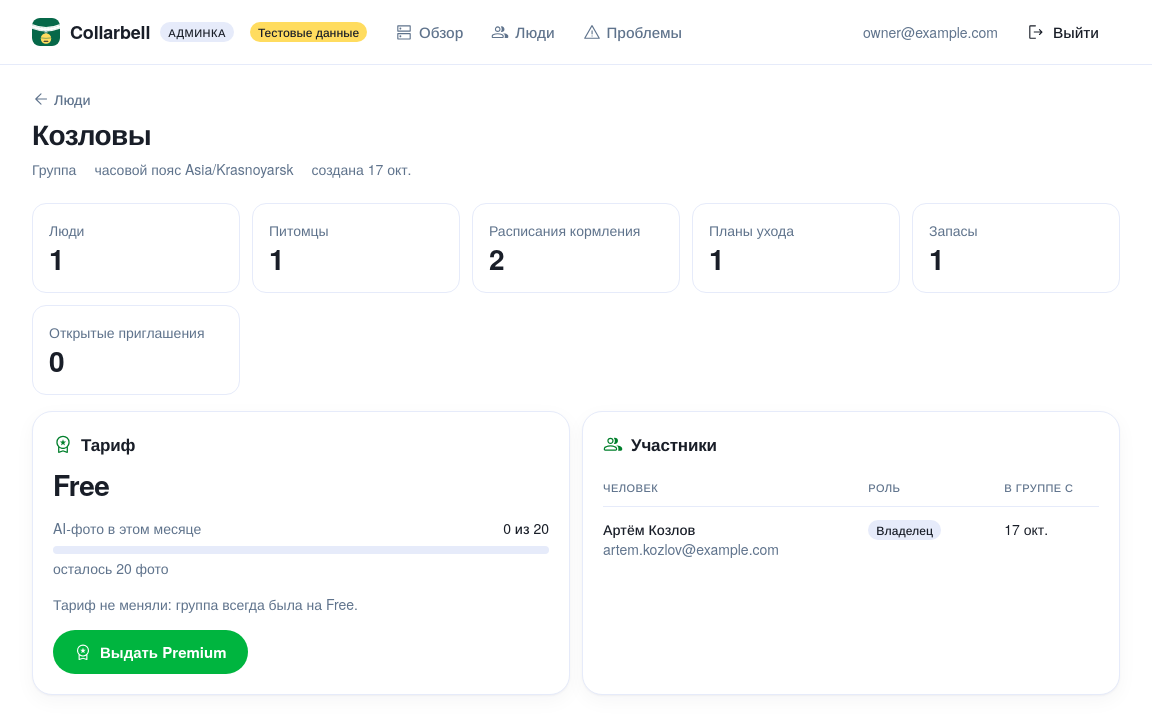
Test: Тариф › asks for the day when "До даты" has none, without asking the server
Click the button "Выдать Premium".
click(150, 652)  # box top-left (53, 630), bottom-right (248, 674)
(page scrolled)
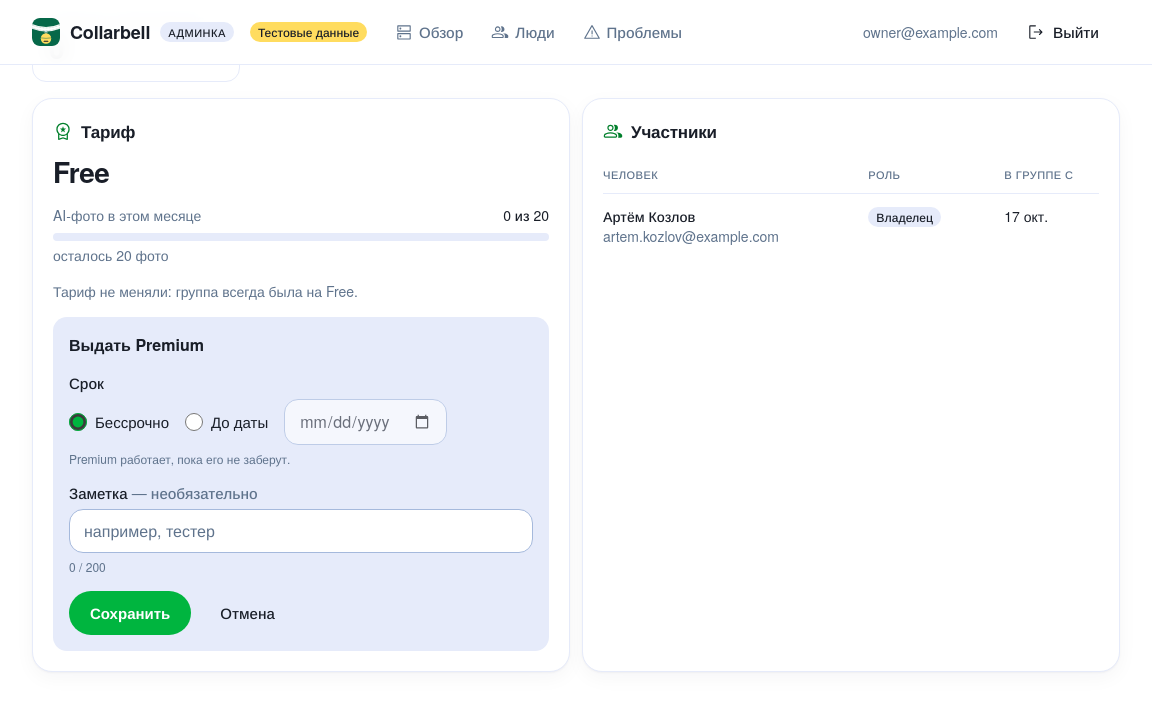
Click the radio button named "До даты".
click(194, 422)  # box top-left (185, 413), bottom-right (203, 431)
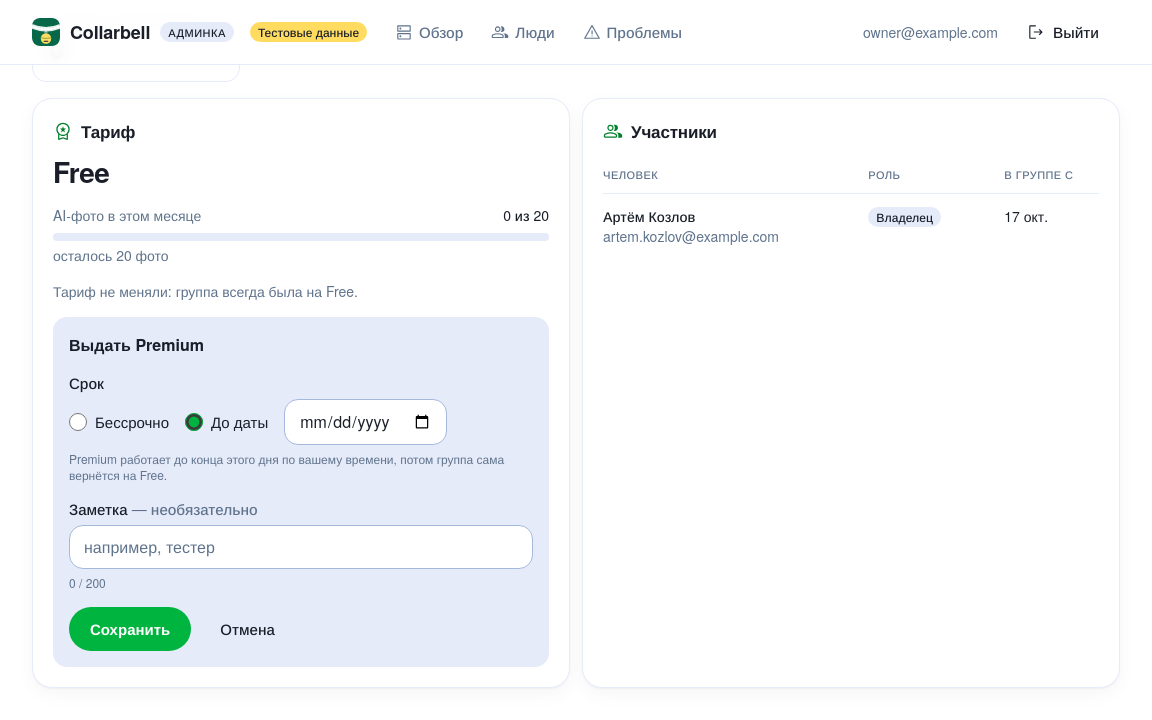
Click the button "Сохранить".
click(130, 629)  # box top-left (69, 607), bottom-right (191, 651)
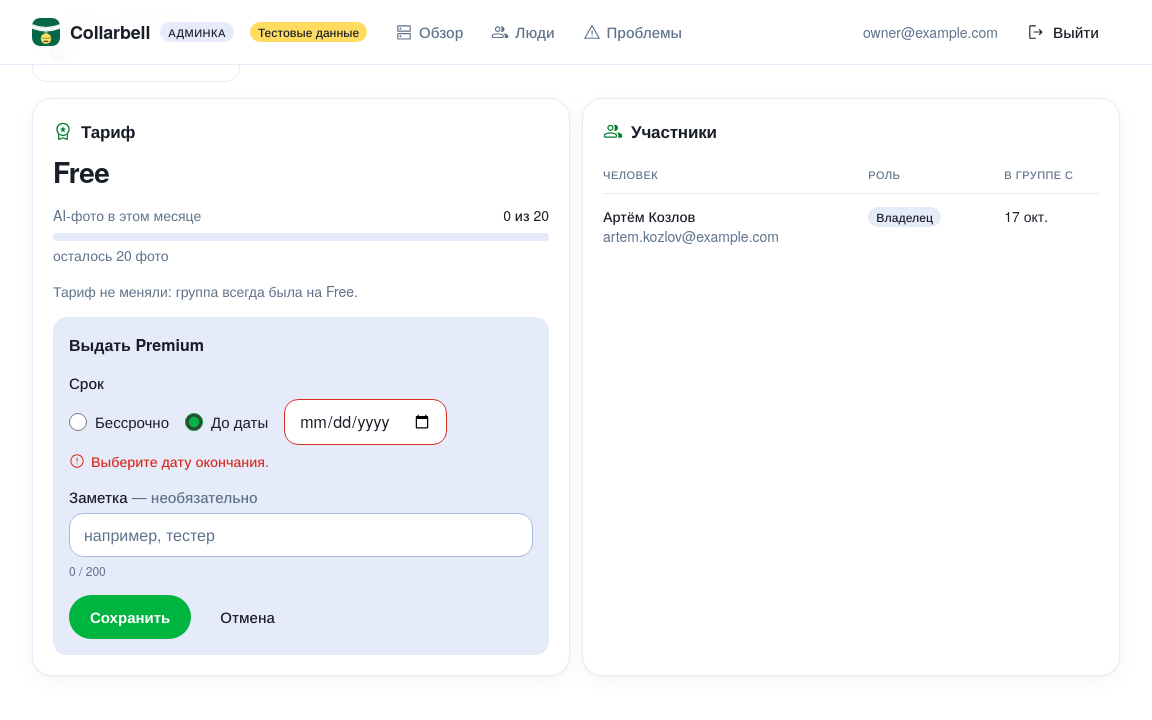
Result: the text "Выберите дату окончания." is shown at top-left (69, 451), bottom-right (269, 471)
